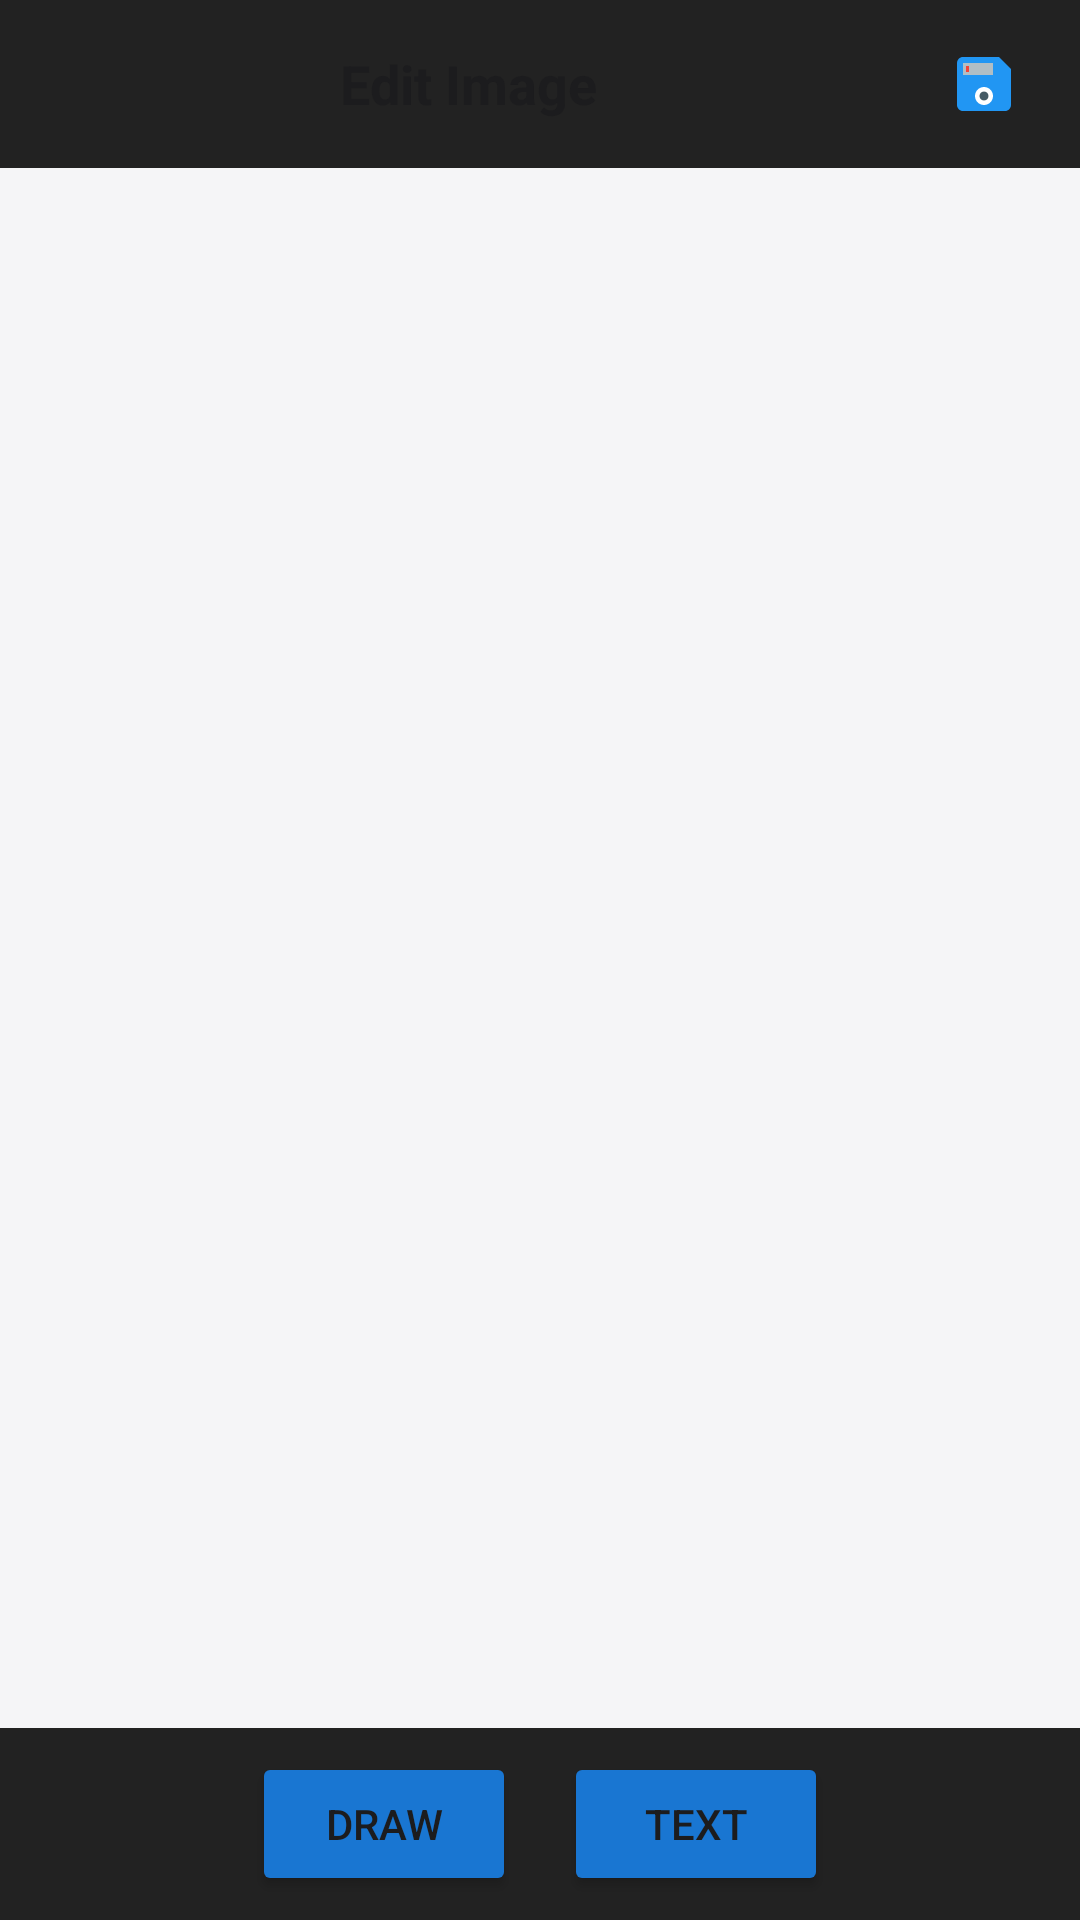

Named icons in this screenshot (1080x1920) and their centers, point (x, y):
save: point (984, 84)
